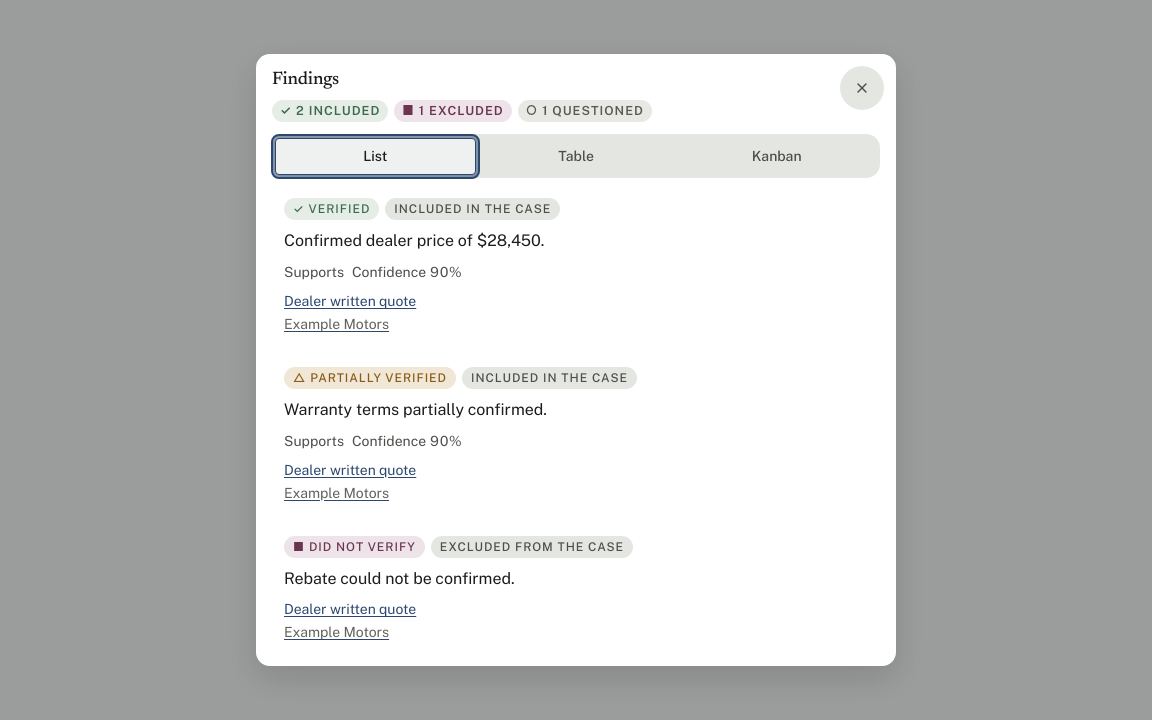
Scenario: FindingsSheet › switches to the Table tab and shows a dense, read-only row per item
This screenshot has width=1152, height=720.
Click the tab with test id "findings-sheet-tab-table": (576, 156) 476,138 -> 676,175
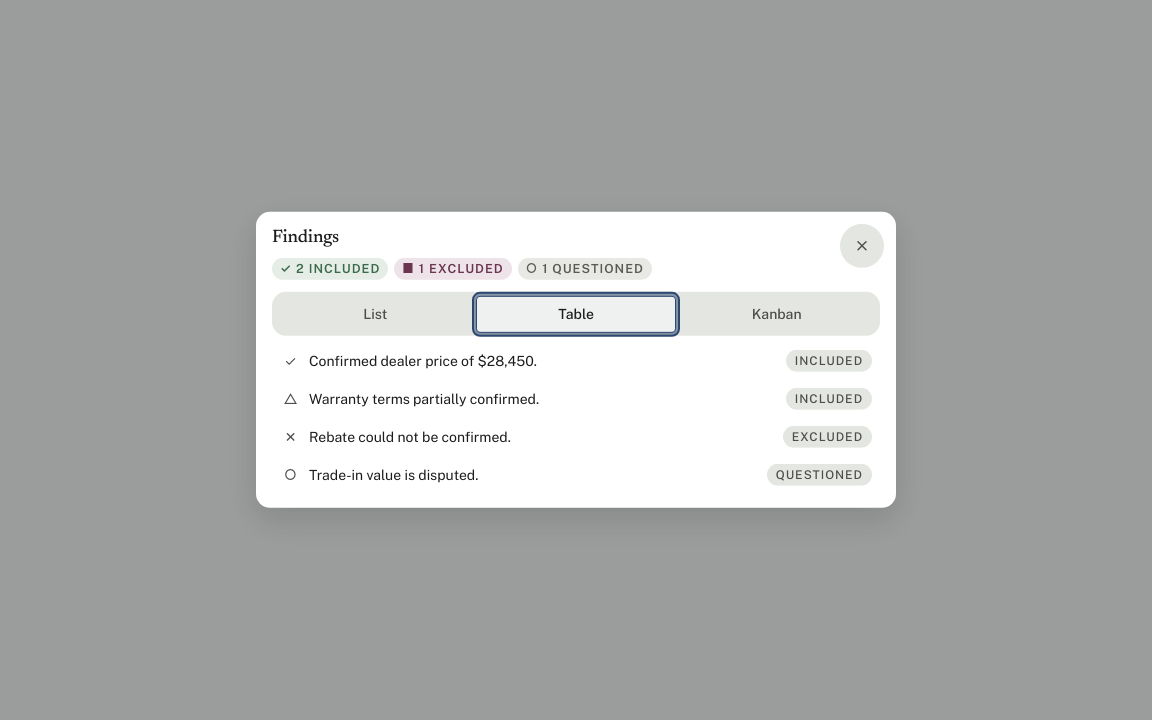
Expected: the panel with test id "findings-sheet-view-table" is shown, 272,344 -> 880,492
Expected: the list item with test id "findings-sheet-table-row-evidence-1" shows "Confirmed dealer price of $28,450.", 309,353 -> 537,369
Expected: the list item with test id "findings-sheet-table-row-evidence-1" shows "Included", 795,354 -> 863,368
